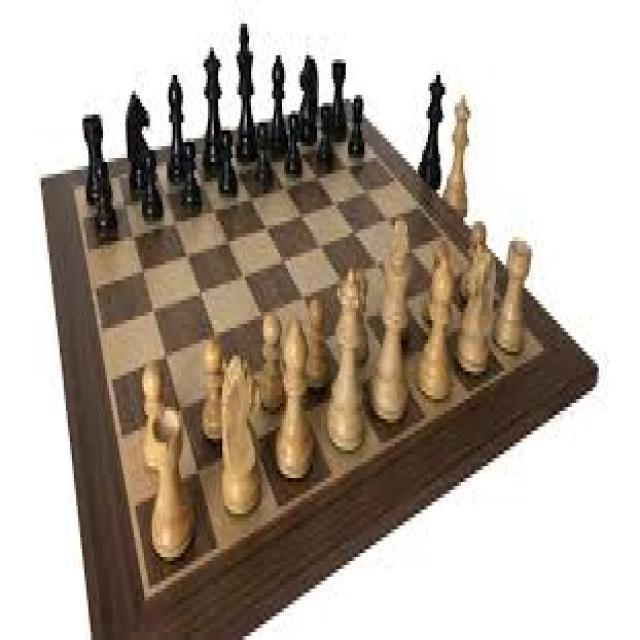chess-table-corners: (128, 566, 164, 626), (527, 328, 557, 373), (64, 175, 86, 204)
